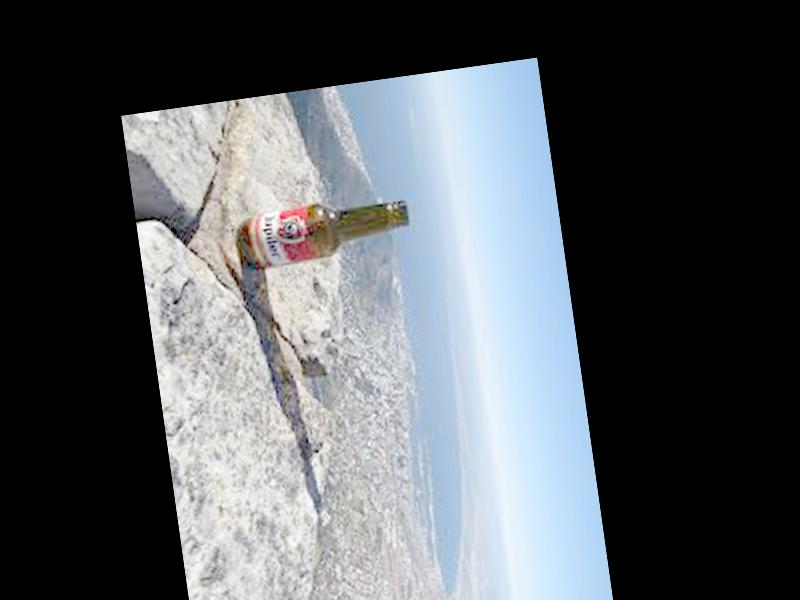Beer: (239, 189, 414, 270)
